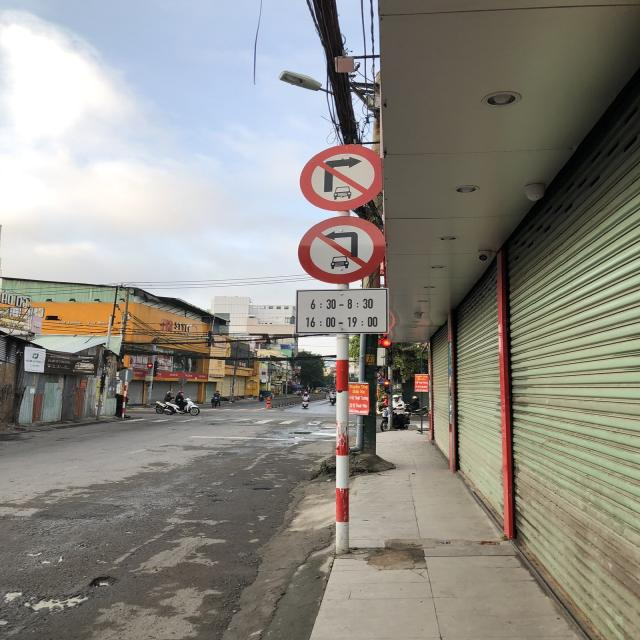Bien bao cam xe o to re phai: (292, 140, 387, 213)
Bien bao cam xe o to re trai: (292, 213, 392, 287)
